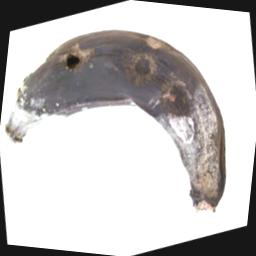Banana Rotten: (0, 10, 256, 227)
